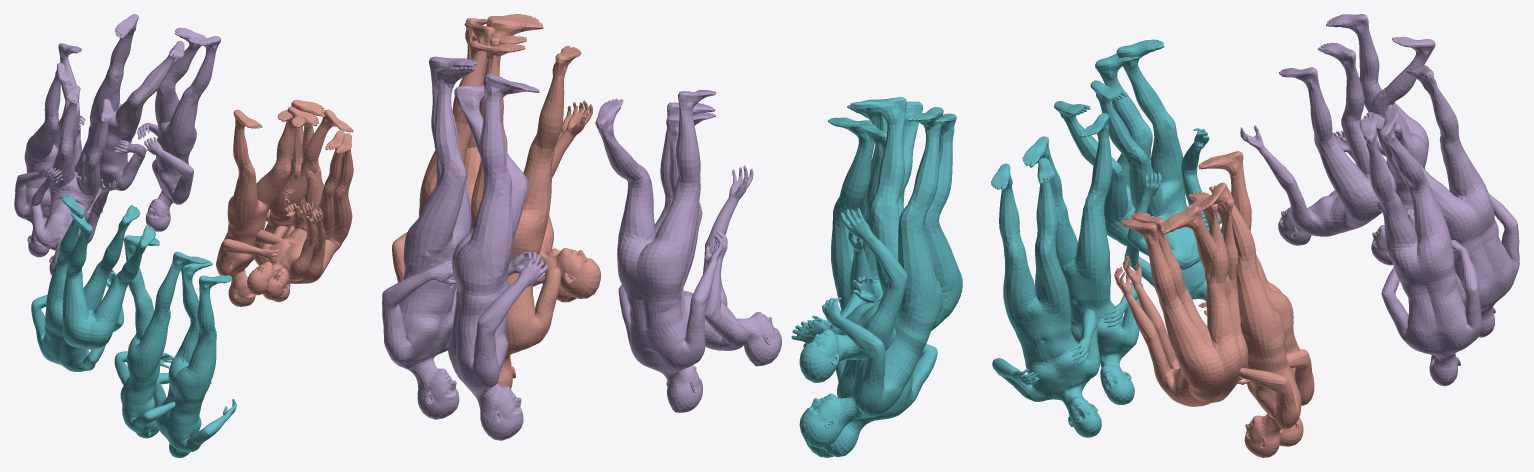
The model's file is four_times_native_meshes.glb.
The picture shows the model from 3 angles, left to right: view 1: azimuth 30°, elevation 25°; view 2: azimuth 150°, elevation 25°; view 3: azimuth 270°, elevation 25°; orthographic projection. The views are drawn at different scales.
Parts seen in each view (by area): view 1: ID2_frame331, ID0_frame251, ID1_frame251, ID2_frame311, ID0_frame261, ID0_frame331, ID2_frame261, ID2_frame251, ID1_frame331, ID0_frame311, ID1_frame311, ID1_frame261; view 2: ID0_frame311, ID2_frame261, ID0_frame261, ID0_frame251, ID2_frame251, ID1_frame251, ID0_frame331, ID2_frame311, ID2_frame331, ID1_frame331, ID1_frame261, ID1_frame311; view 3: ID0_frame251, ID2_frame331, ID1_frame311, ID2_frame311, ID0_frame331, ID1_frame261, ID0_frame261, ID2_frame261, ID2_frame251, ID0_frame311, ID1_frame331, ID1_frame251.
Part boxes in pixels (x1,y1,x2,y2): ID2_frame331: (153,260,236,457); ID0_frame251: (137,27,221,231); ID1_frame251: (216,106,318,306); ID2_frame311: (114,235,207,438); ID0_frame261: (72,14,184,221); ID0_frame331: (31,85,118,275); ID2_frame261: (31,194,140,371); ID2_frame251: (62,212,155,349); ID1_frame331: (247,110,344,295); ID0_frame311: (14,43,86,257); ID1_frame311: (263,116,353,299); ID1_frame261: (254,99,353,302); ID0_frame311: (595,90,723,412); ID2_frame261: (799,97,943,447); ID0_frame261: (449,73,548,440); ID0_frame251: (382,56,476,419); ID2_frame251: (799,101,962,382); ID1_frame251: (470,32,581,388); ID0_frame331: (655,102,781,366); ID2_frame311: (805,105,937,456); ID2_frame331: (791,105,875,457); ID1_frame331: (468,17,600,298); ID1_frame261: (392,18,495,360); ID1_frame311: (472,14,587,302); ID0_frame251: (1360,104,1482,386); ID2_frame331: (991,157,1101,437); ID1_frame311: (1114,191,1241,406); ID2_frame311: (1022,113,1143,404); ID0_frame331: (1240,42,1396,245); ID1_frame261: (1160,182,1301,457); ID0_frame261: (1364,65,1519,337); ID2_frame261: (1090,39,1222,301); ID2_frame251: (1054,53,1223,269); ID0_frame311: (1326,14,1435,265); ID1_frame331: (1123,185,1248,380); ID1_frame251: (1186,151,1314,446).
Bounding box in the file's own units: 2.7 × 2.65 × 3.02.
